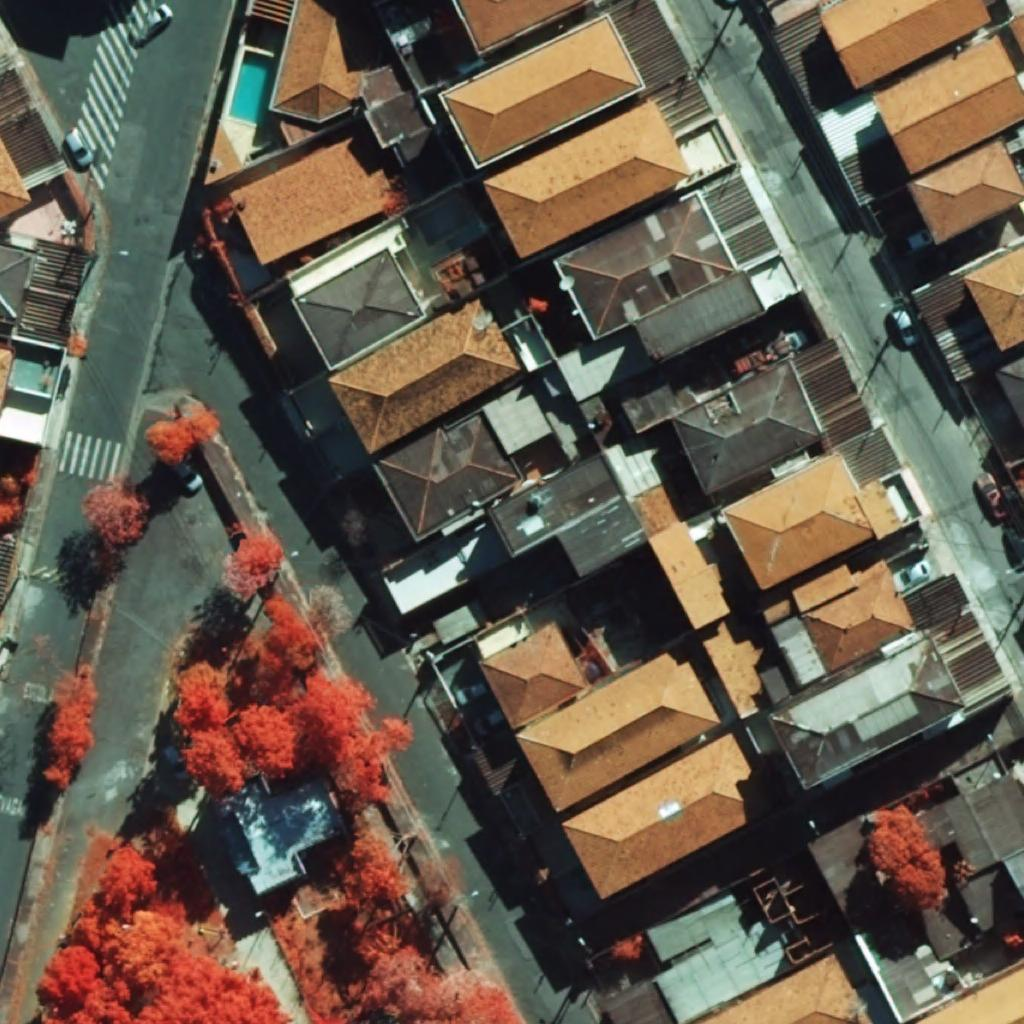pool: (230, 51, 275, 125)
